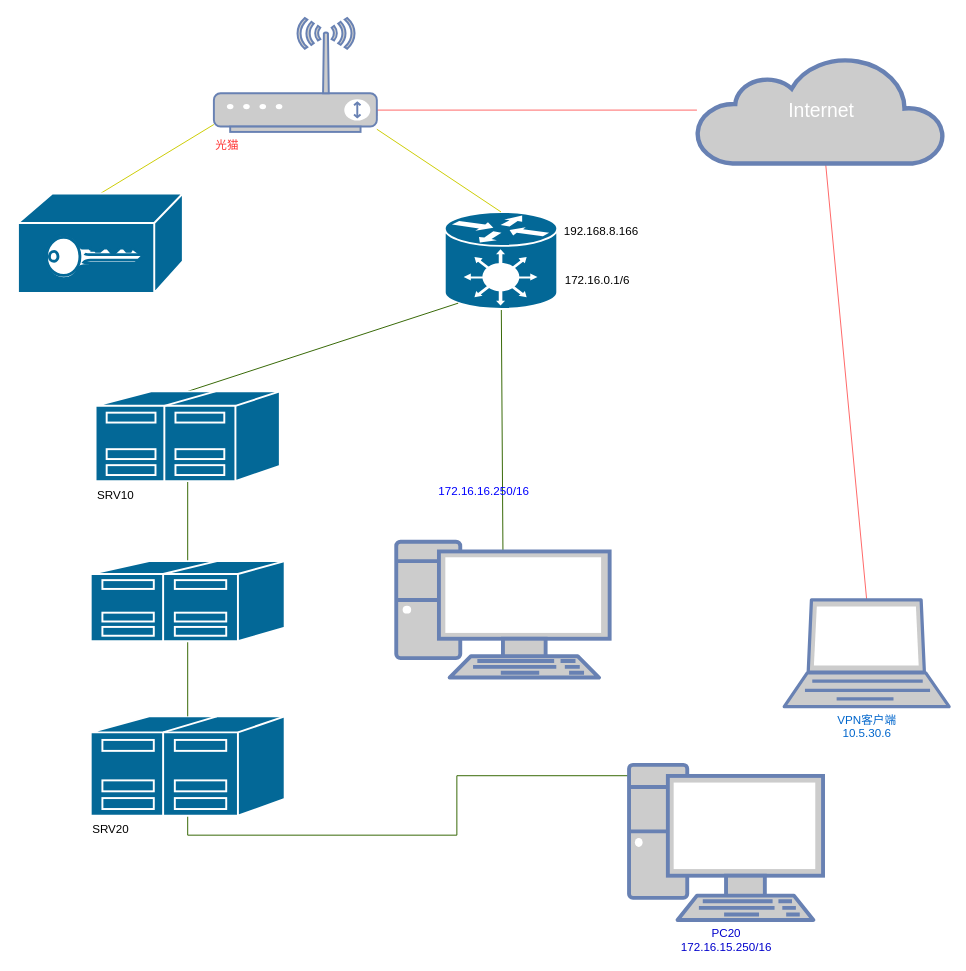
The diagram is 966 pixels wide and 971 high, and some of its shapes have lost their labels. Here are the shapes that lost their labels. From the top down, the centre of each, then its label:
At (x=99, y=242): "VPN服务器 192.168.8.231 10.5.0.1".
At (x=500, y=259): "网关 GW10".
At (x=187, y=601): "BR10".
